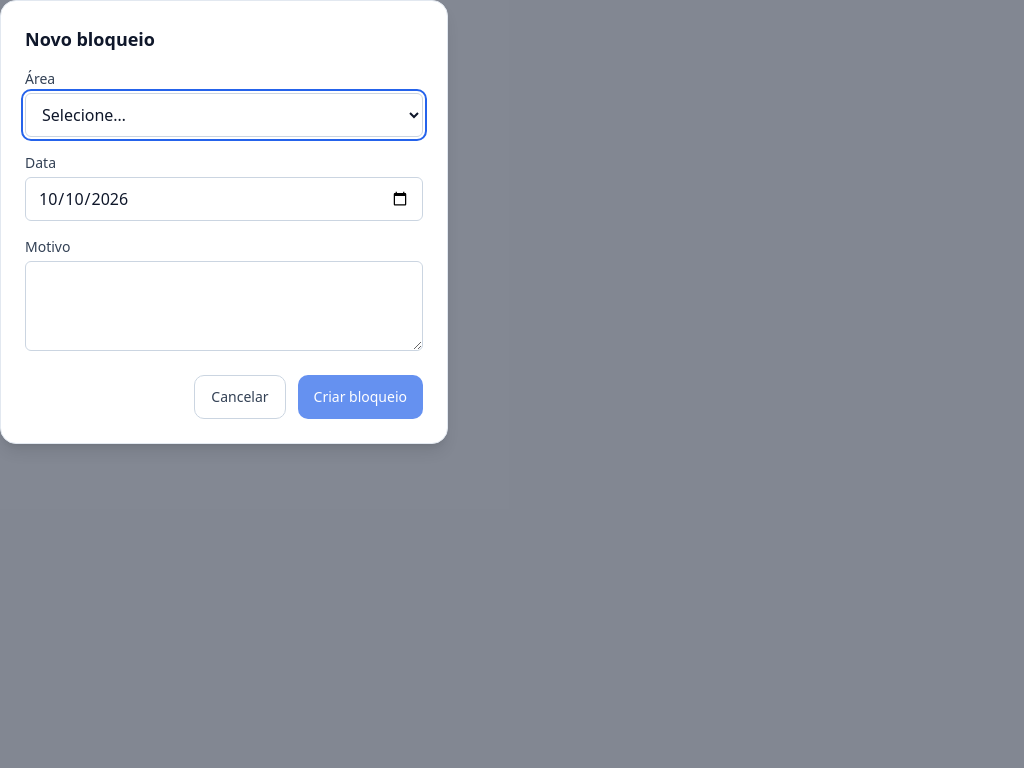
Test: BlockFormDialog (RF-RES-10, RN-33) › 409 RESERVATION_OVERLAP explica que há reserva ativa e que só a administração pode cancelá-la
Select "Salão de festas" in the dropdown labelled "Área" at {"x": 224, "y": 115}, box [25,93,423,137]
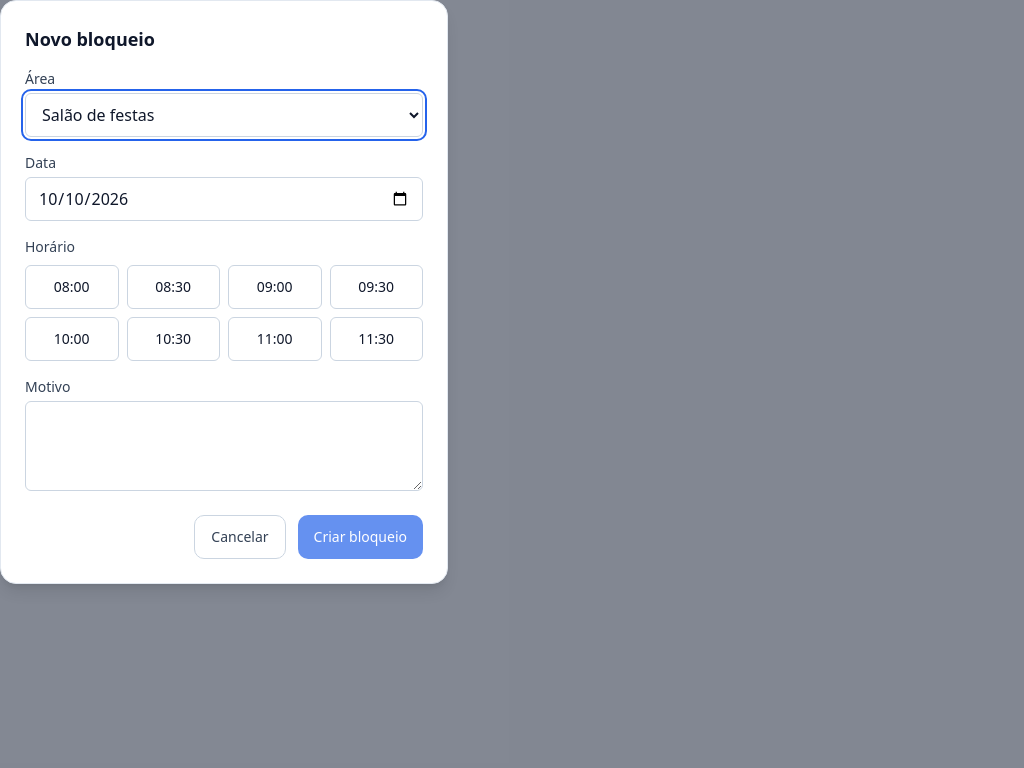
Click the button "08:00" at {"x": 72, "y": 287}, box [25,265,118,309]
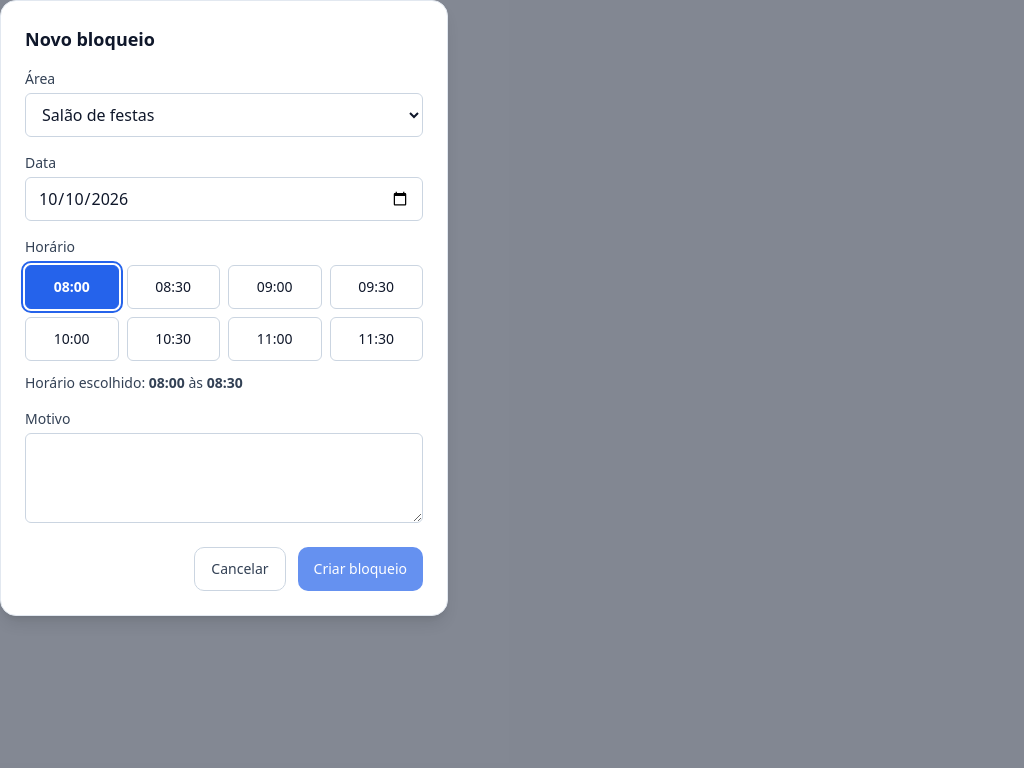
Type "Assembleia geral do condomínio." into the text box labelled "Motivo" at {"x": 224, "y": 478}, box [25,433,423,523]
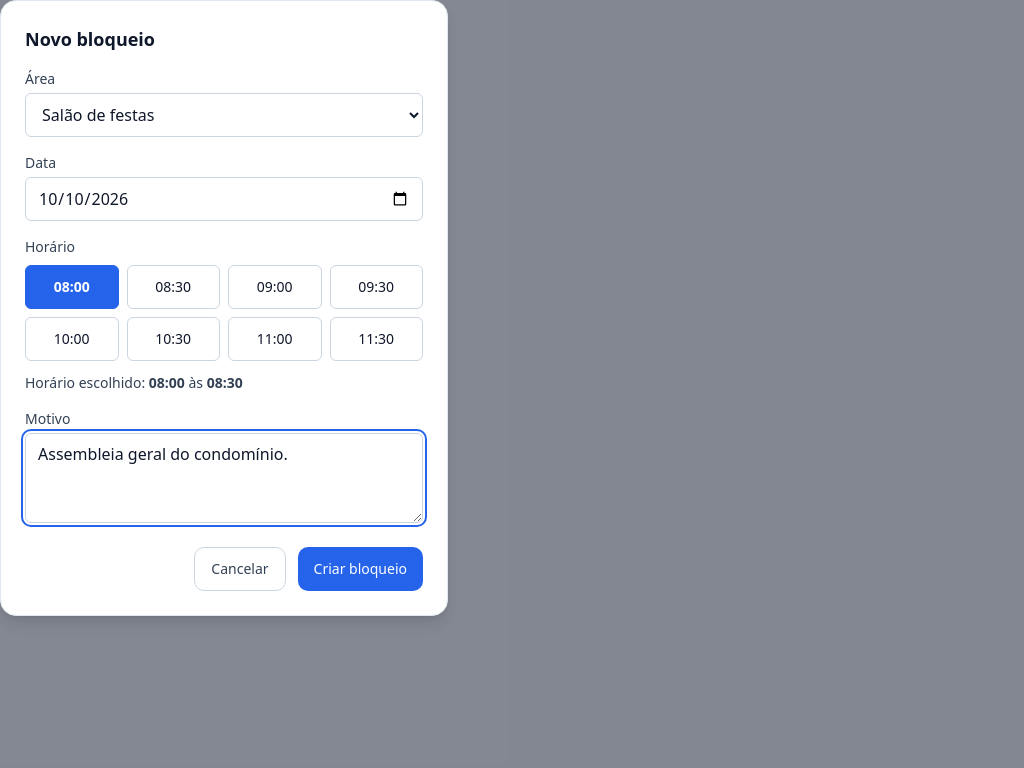
Click the button "Criar bloqueio" at {"x": 360, "y": 569}, box [298,547,423,591]
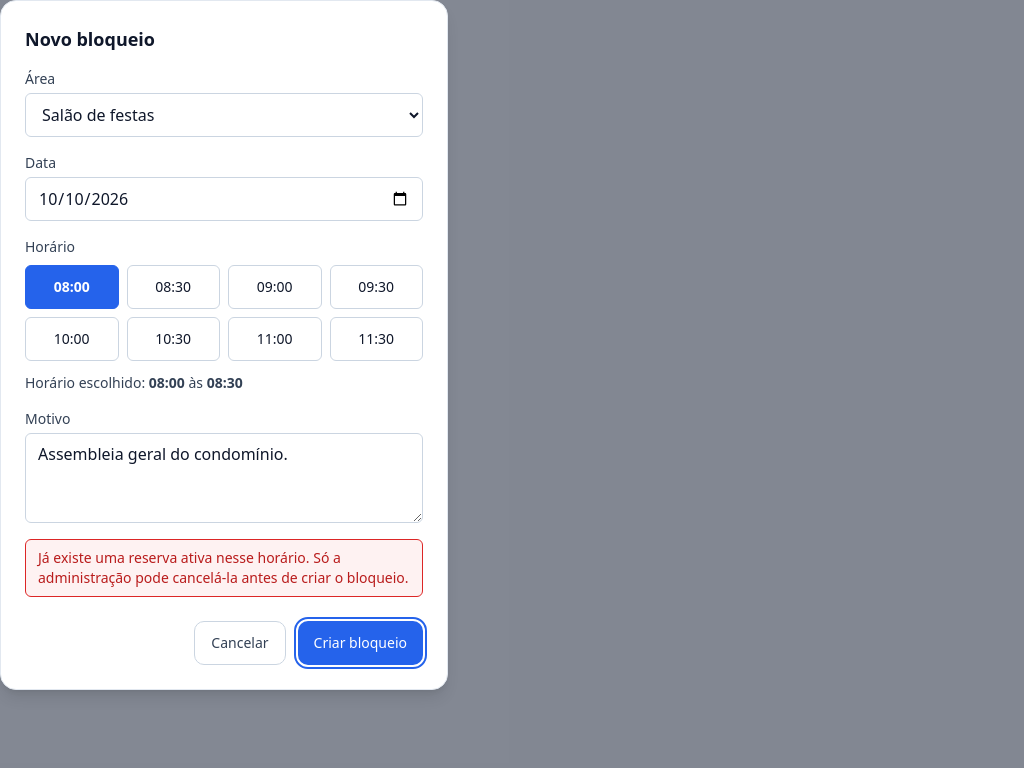
Expected: the text "Já existe uma reserva ativa nesse horário. Só a administração pode cancelá-la antes de criar o bloqueio." is shown, [38,548,408,587]
